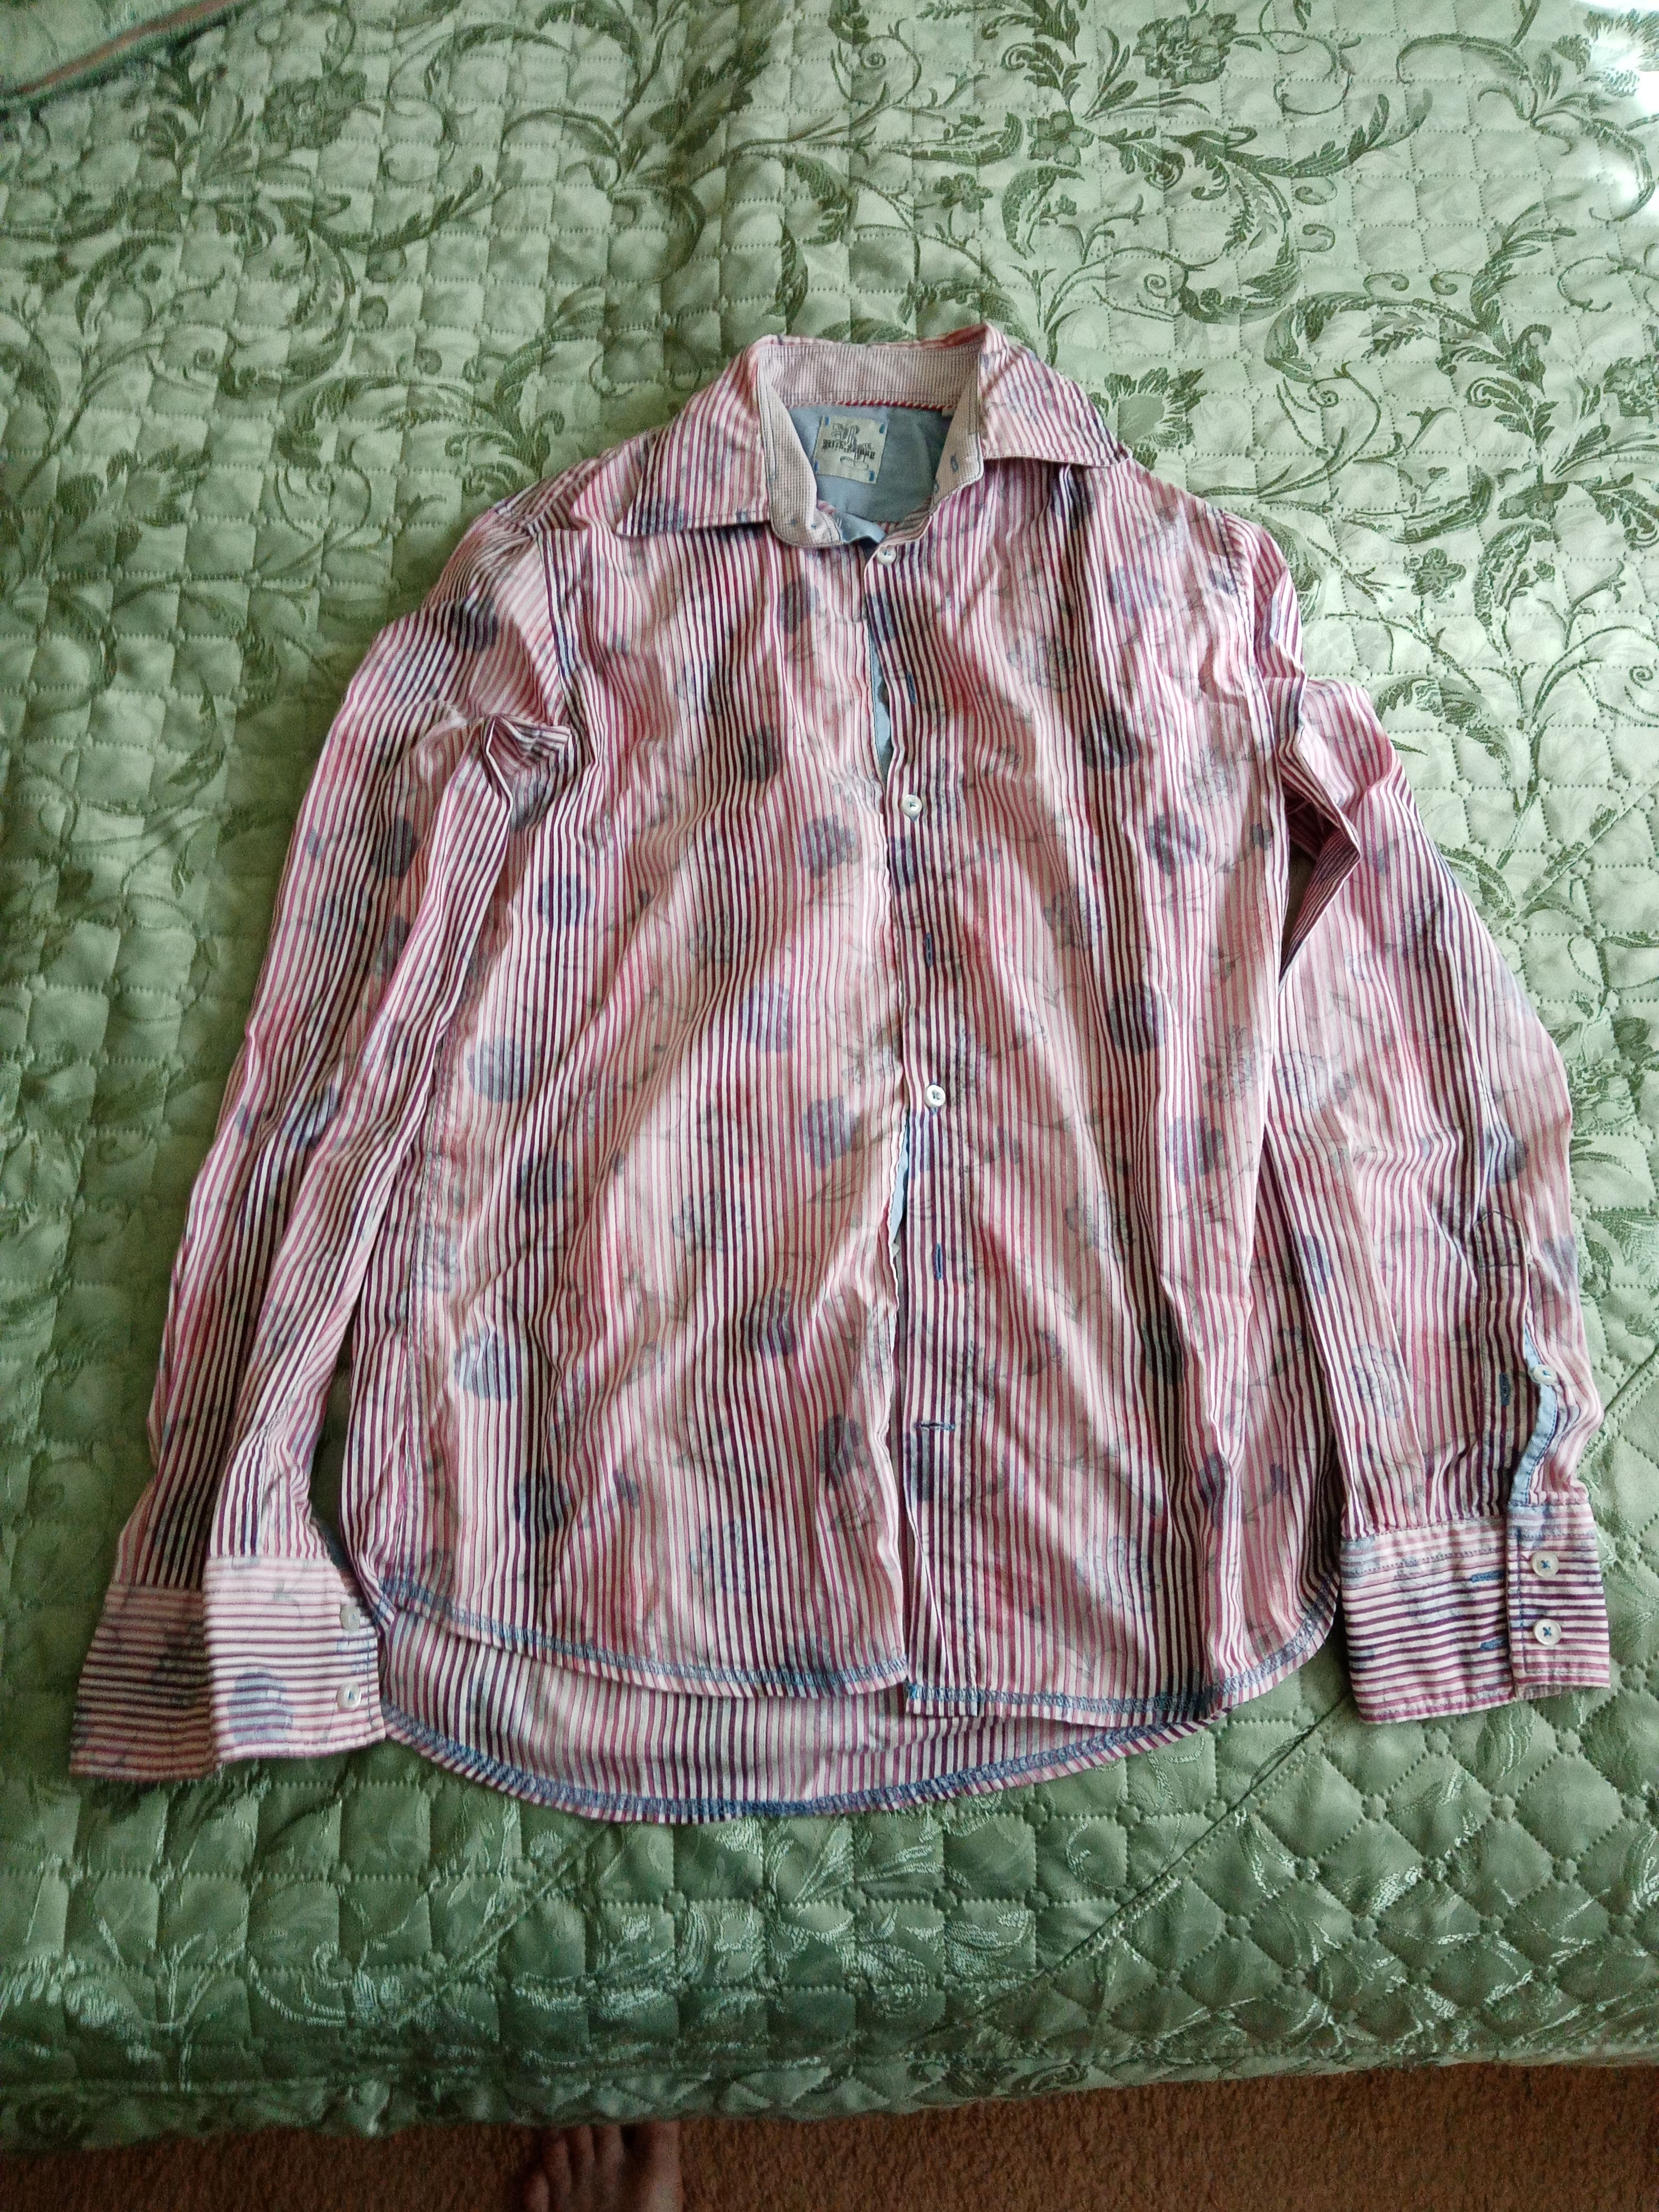clothes: (71, 314, 1575, 1792)
